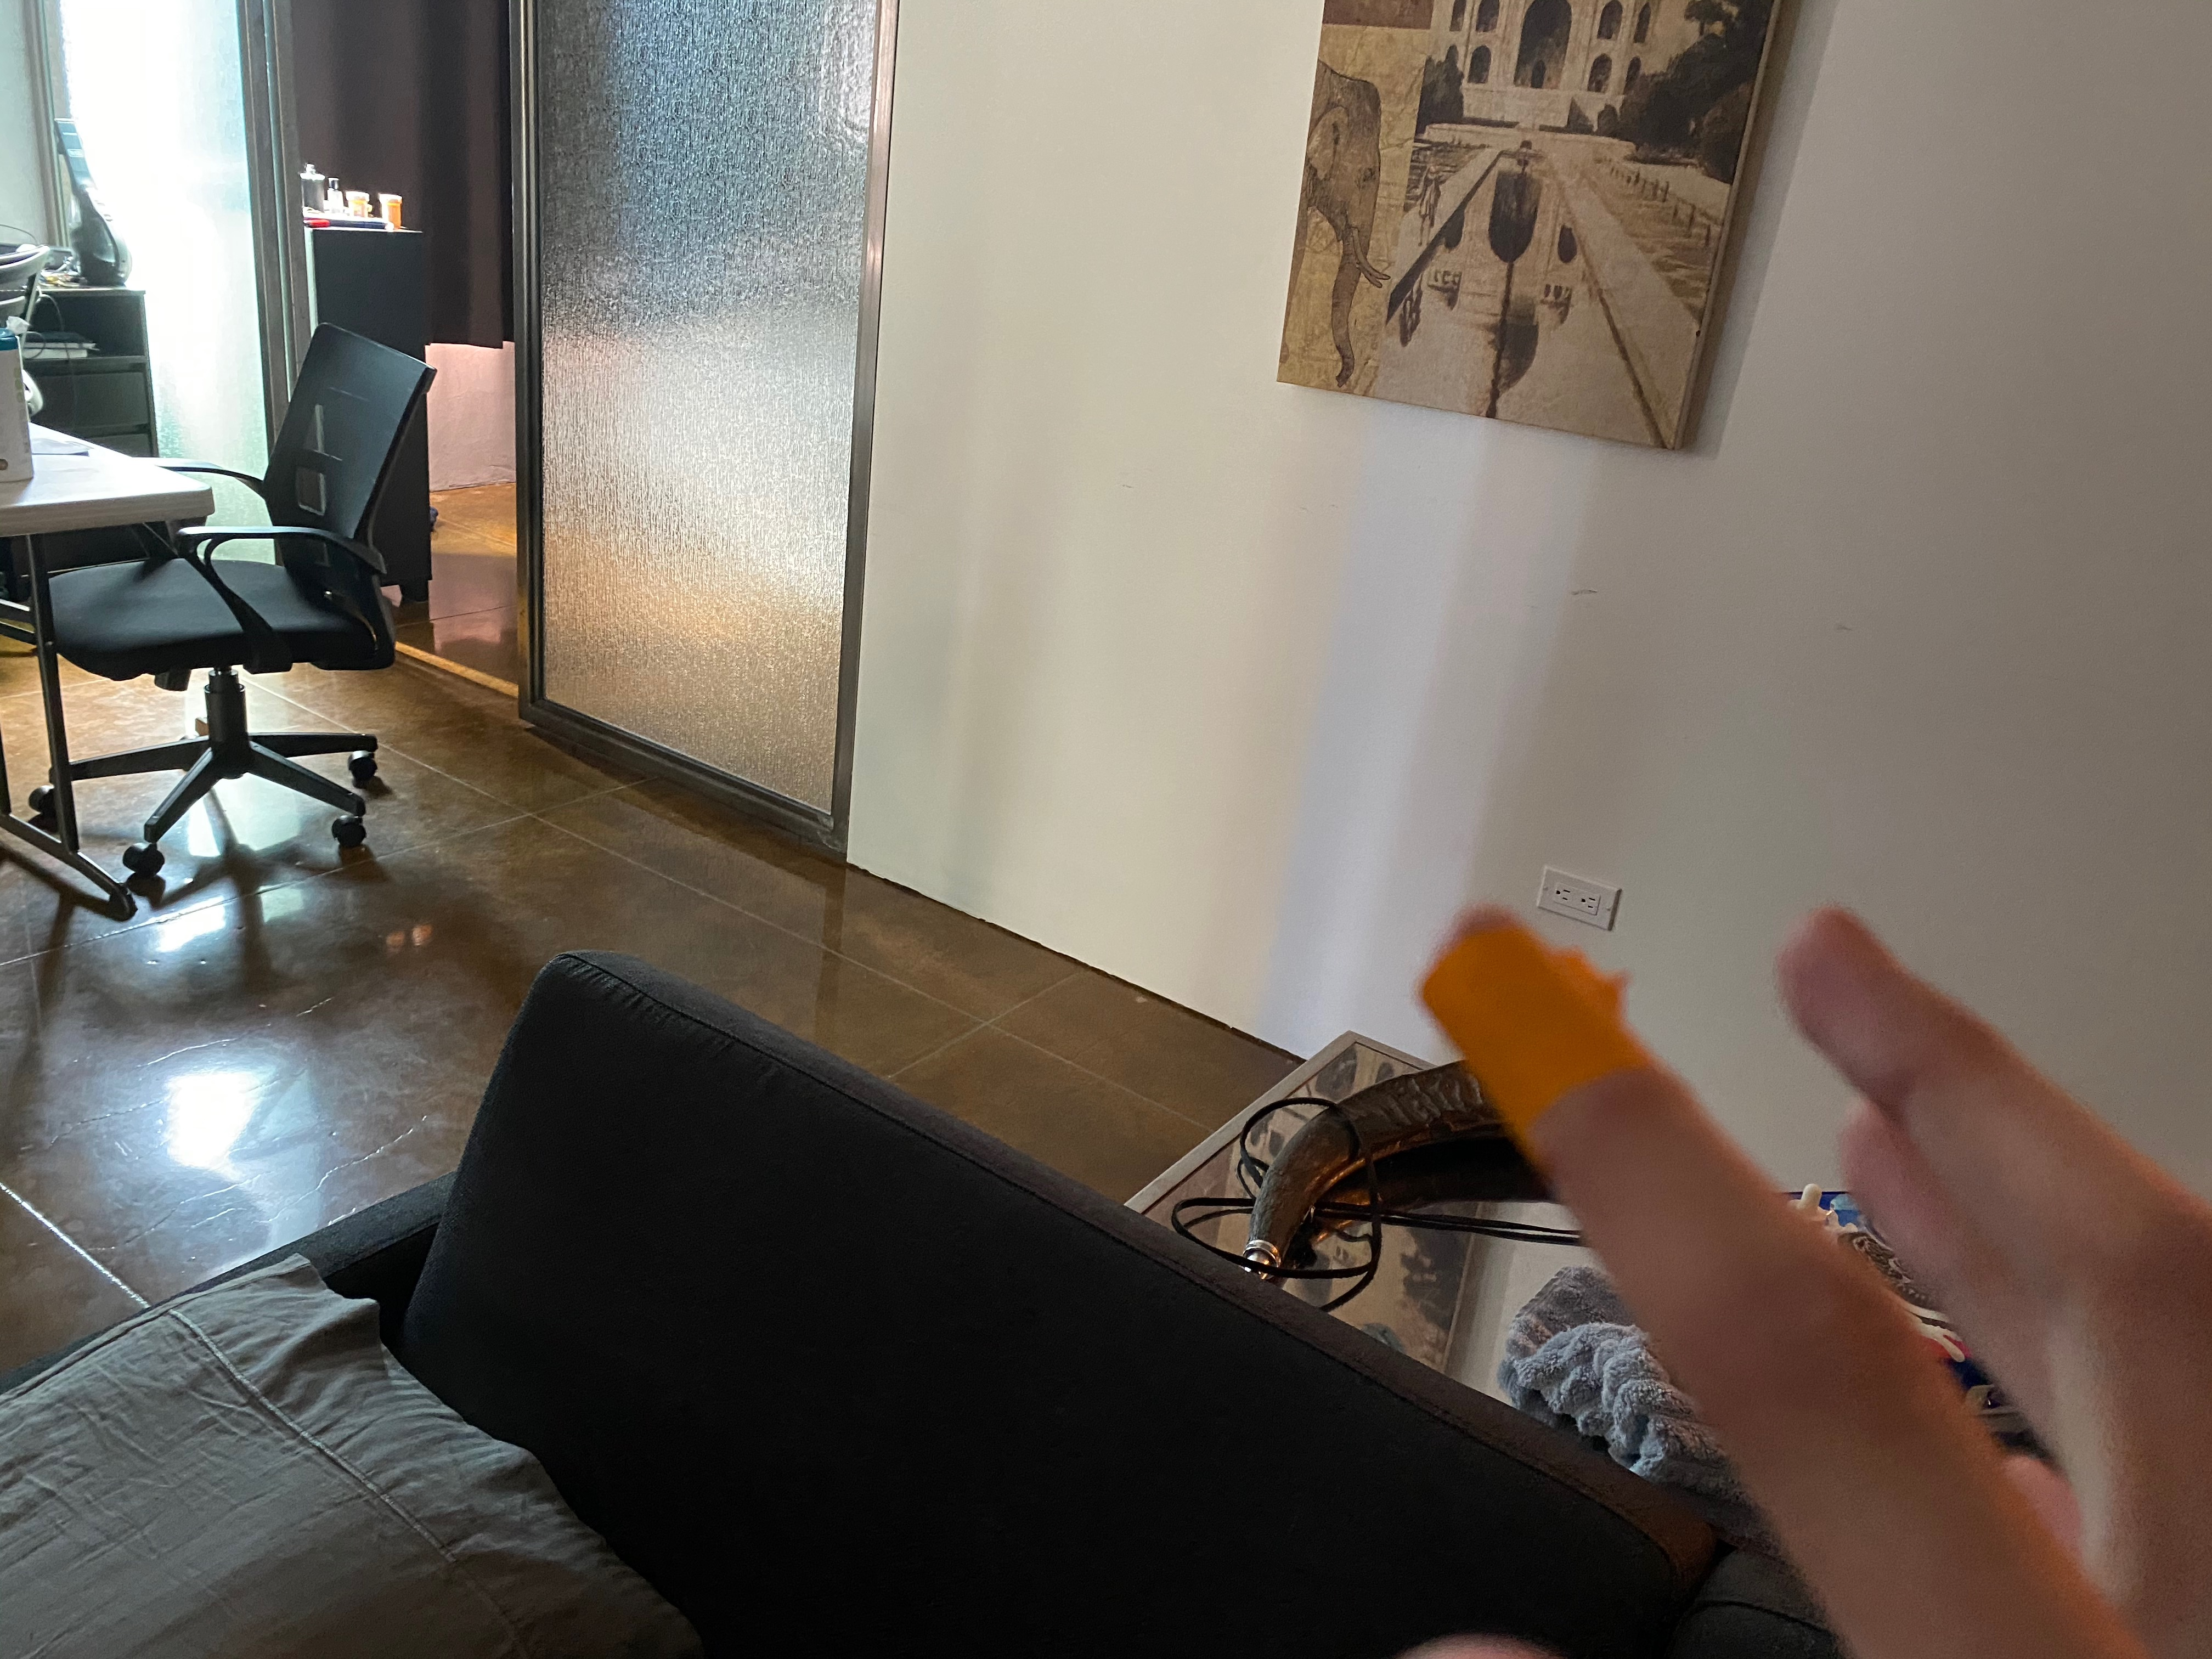fingertip: (1357, 894, 1714, 1180)
